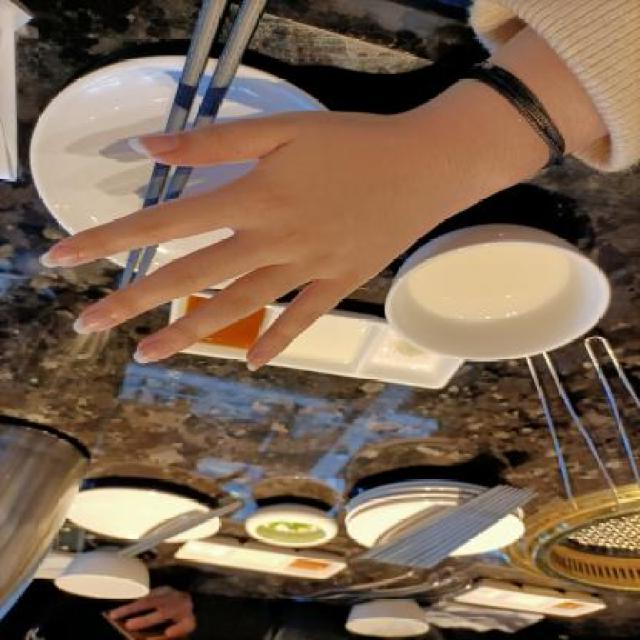bare_hand: (37, 80, 497, 386)
